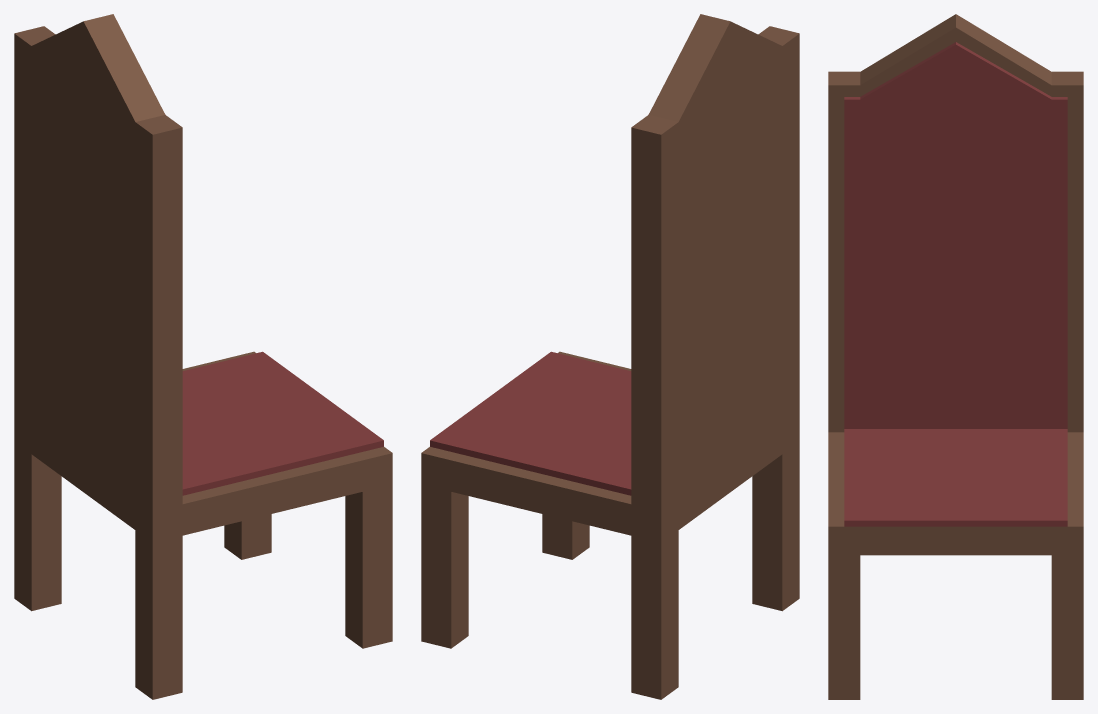
Rendered from dine_chair_main.obj.
3 views of the same model, side by side, from view 1: azimuth 30°, elevation 25°; view 2: azimuth 150°, elevation 25°; view 3: azimuth 270°, elevation 25° (orthographic). The views are drawn at different scales.
Visible parts, largest first — view 1: chair_mesh_Cube; view 2: chair_mesh_Cube; view 3: chair_mesh_Cube.
Boxes of the visible parts, <box> form: chair_mesh_Cube: <box>14,14,392,699</box>; chair_mesh_Cube: <box>421,14,799,699</box>; chair_mesh_Cube: <box>828,14,1083,699</box>.
Bounding box in the file's own units: 0.4 × 1 × 0.4.
